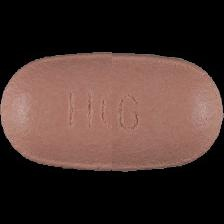0078-0314: (0, 0, 224, 224)
